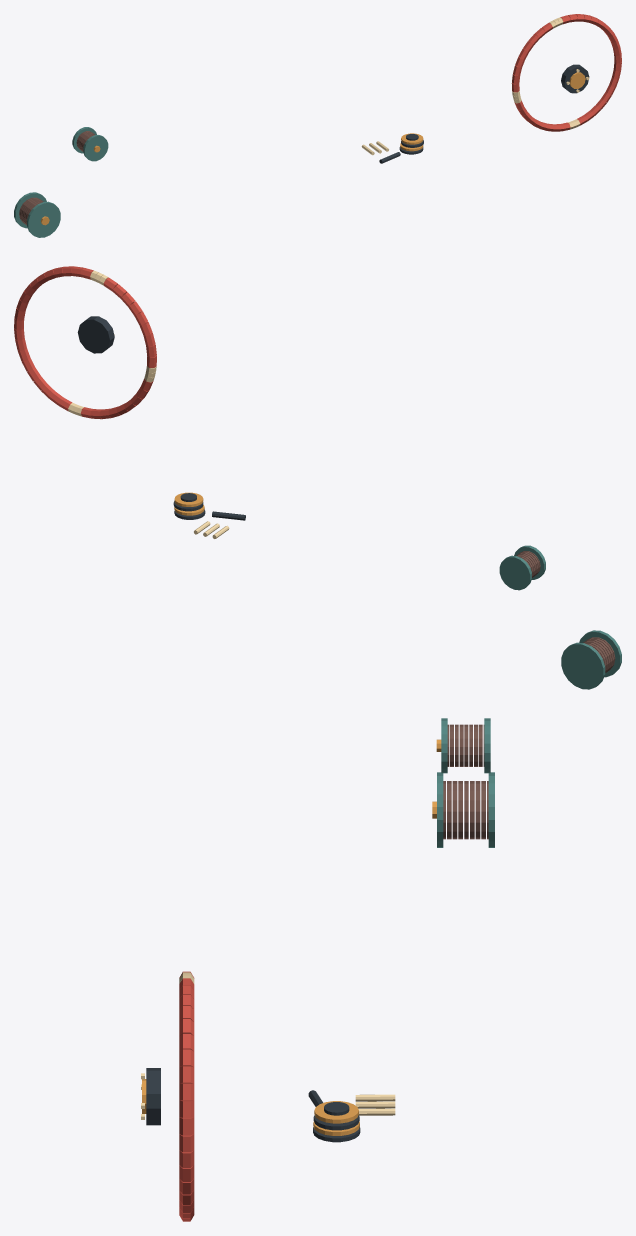
Rendered from BearingAndReels.gltf.
3 renders of one model, top to bottom at view 1: azimuth 30°, elevation 25°; view 2: azimuth 150°, elevation 25°; view 3: azimuth 270°, elevation 25°, orthographic. The views are drawn at different scales.
Visible parts, largest first — view 1: Impeller guard, Dispatch reels, Bearing cap, Bearing stack; view 2: Impeller guard, Dispatch reels, Bearing cap, Bearing stack; view 3: Dispatch reels, Impeller guard, Bearing stack, Bearing cap, Drift pins.
Boxes of the visible parts, x1,y1,x2,y2 form: Impeller guard: (511,14,621,131); Dispatch reels: (14,127,108,237); Bearing cap: (561,64,589,93); Bearing stack: (399,133,423,154); Impeller guard: (14,266,156,419); Dispatch reels: (499,545,621,689); Bearing cap: (77,316,114,353); Bearing stack: (173,492,205,519); Dispatch reels: (432,718,494,847); Impeller guard: (179,971,194,1221); Bearing stack: (313,1101,360,1142); Bearing cap: (142,1068,160,1125); Drift pins: (355,1094,395,1115).
Bounding box in the file's own units: 7.1 × 1.98 × 2.05.
